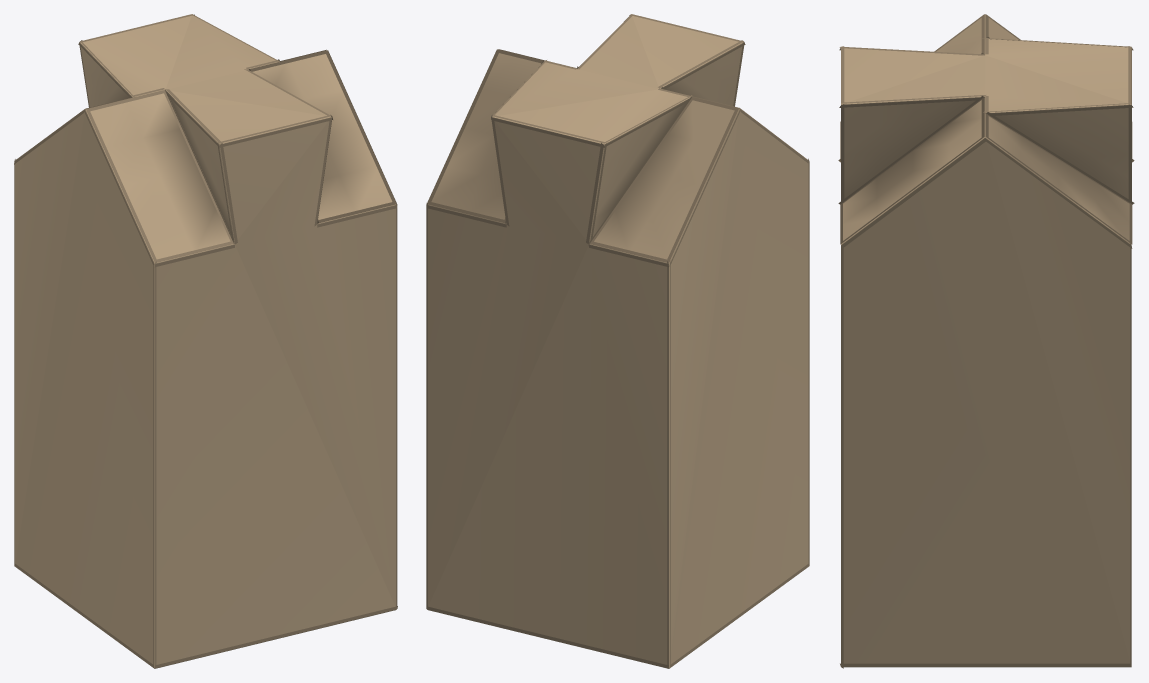
The picture shows the model from 3 angles, left to right: view 1: azimuth 30°, elevation 25°; view 2: azimuth 150°, elevation 25°; view 3: azimuth 270°, elevation 25°; orthographic projection. The views are drawn at different scales.
Parts seen in each view (by area): view 1: part-a; view 2: part-a; view 3: part-a.
Boxes of the visible parts, box(x1,y1,x2,y2) form: part-a: box(14, 14, 397, 668); part-a: box(426, 14, 809, 668); part-a: box(838, 14, 1134, 668).
Bounding box in the file's own units: 0.1208 × 0.2426 × 0.1223.
